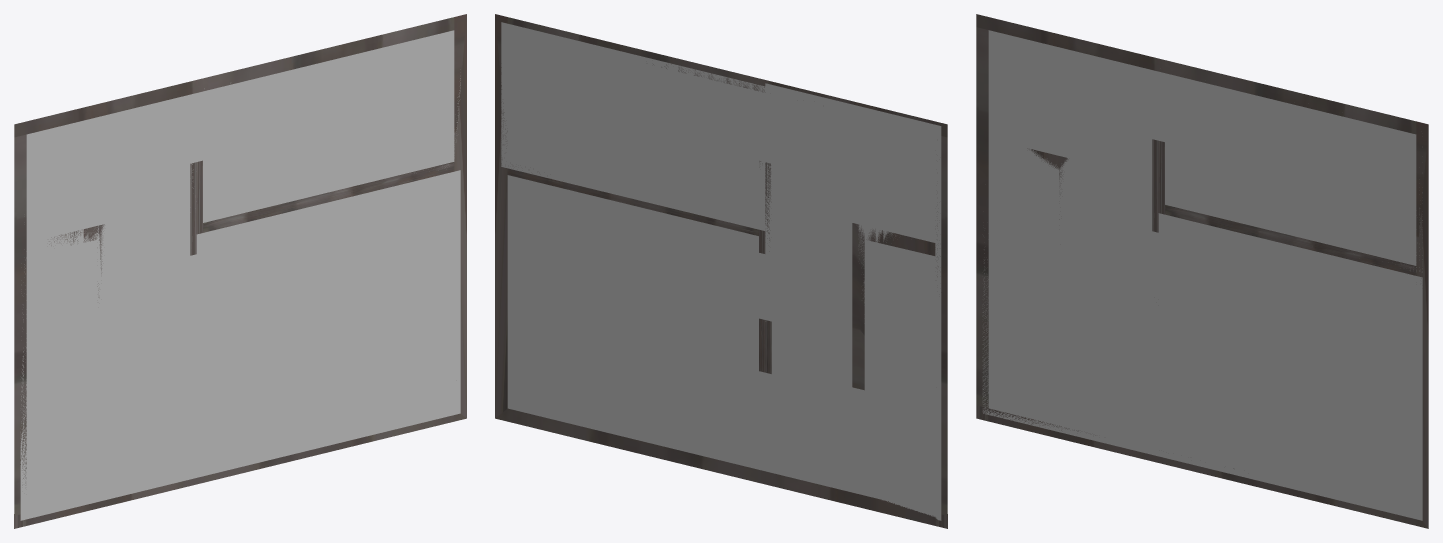
Rendered from house_basement.FBX.
3 views of the same model, side by side, from view 1: azimuth 30°, elevation 25°; view 2: azimuth 150°, elevation 25°; view 3: azimuth 330°, elevation 25° (orthographic).
Visible parts, largest first — view 1: house_basement_hall_floor, house_basement_storage_floor, house_basement_hidden_floor, house_basement_walls; view 2: house_basement_hall_floor, house_basement_storage_floor, house_basement_hidden_floor, house_basement_walls; view 3: house_basement_hall_floor, house_basement_storage_floor, house_basement_hidden_floor, house_basement_walls.
Part boxes in pixels (left/top/right/bottom): house_basement_hall_floor: left=20, top=93, right=196, bottom=520; house_basement_storage_floor: left=196, top=170, right=460, bottom=477; house_basement_hidden_floor: left=196, top=30, right=460, bottom=222; house_basement_walls: left=14, top=14, right=466, bottom=528; house_basement_hall_floor: left=765, top=83, right=941, bottom=520; house_basement_storage_floor: left=507, top=175, right=765, bottom=470; house_basement_hidden_floor: left=501, top=22, right=765, bottom=230; house_basement_walls: left=495, top=14, right=947, bottom=528; house_basement_hall_floor: left=982, top=30, right=1158, bottom=456; house_basement_storage_floor: left=1158, top=213, right=1422, bottom=520; house_basement_hidden_floor: left=1158, top=71, right=1422, bottom=272; house_basement_walls: left=976, top=14, right=1428, bottom=528.
Bounding box in the file's own units: 720 × 0.000153 × 615.
Materials: 1 (1 with a texture image).
